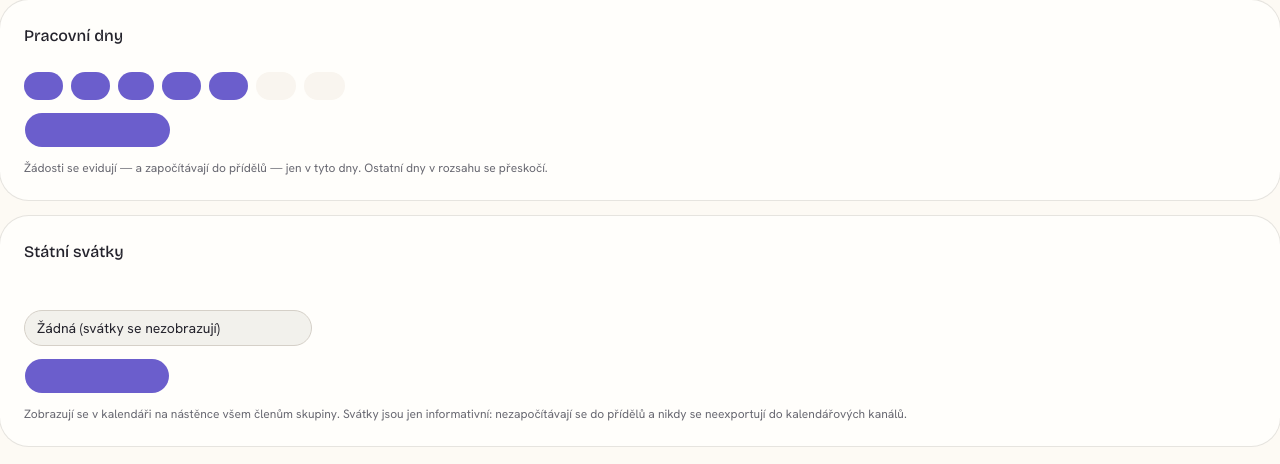
Test case: group detail saves refused by a plan limit › keeps showing the backend's message for errors that are not plan limits
Click the button "Uložit pracovní dny" at (98, 130), box [24, 112, 171, 148]
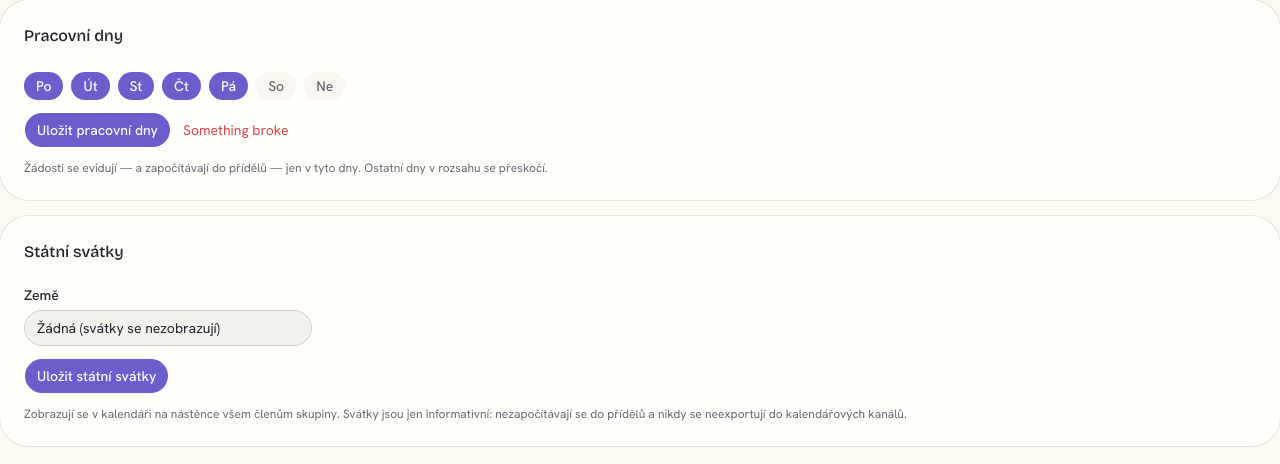
Now the text "Something broke" is shown, box [183, 120, 288, 140]
